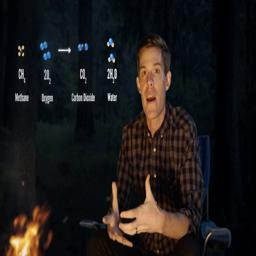fire: (8, 205, 52, 256)
